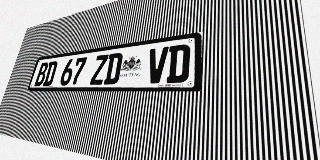6: (59, 58, 76, 86)
7: (70, 57, 87, 85)
B: (34, 62, 49, 86)
D: (166, 43, 191, 83), (103, 52, 123, 85), (42, 61, 58, 86)
V: (146, 46, 169, 84)
Z: (90, 54, 109, 85)
